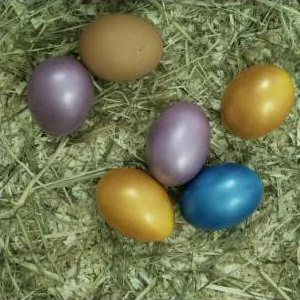egg: (78, 13, 164, 83), (96, 166, 175, 242), (146, 101, 211, 188), (179, 164, 264, 229), (222, 64, 295, 139), (27, 57, 94, 135)
